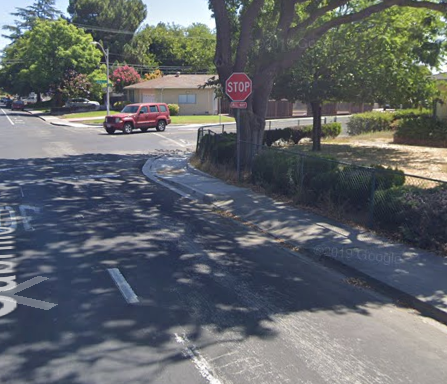stop_sign: (225, 72, 253, 101)
